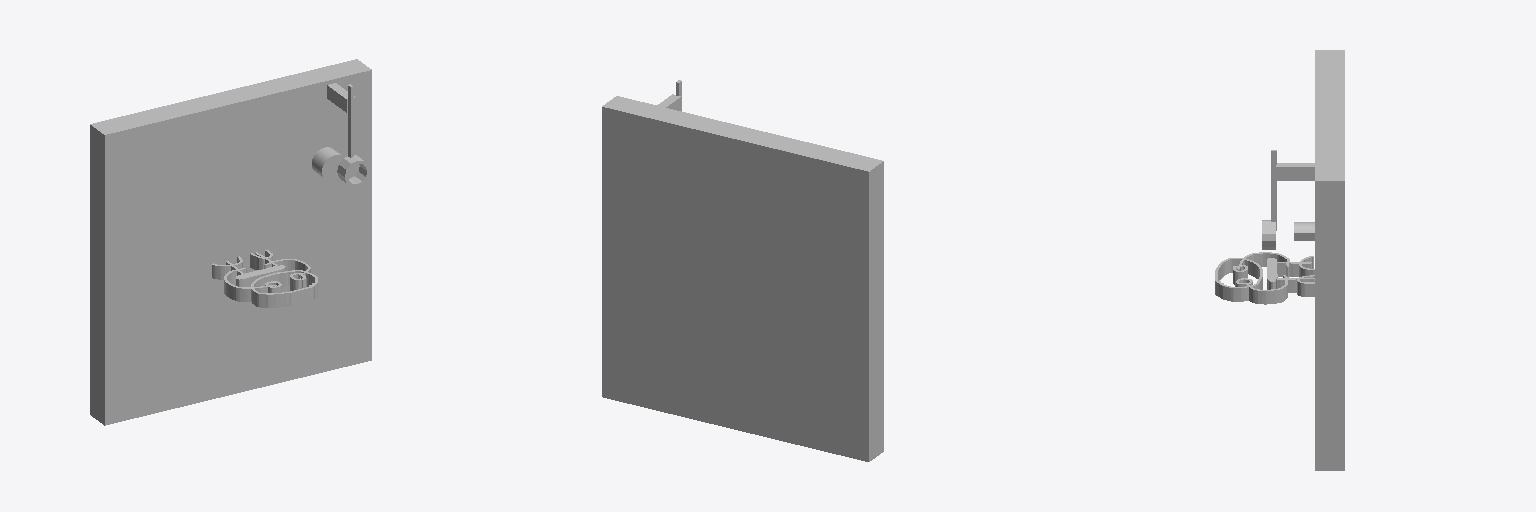
Rendered from raic5_colored3_fail.obj.
3 views of the same model, side by side, from view 1: azimuth 30°, elevation 25°; view 2: azimuth 150°, elevation 25°; view 3: azimuth 270°, elevation 25° (orthographic).
Visible parts, largest first — view 1: obj_0; view 2: obj_0; view 3: obj_0.
Part boxes in pixels (bbox=[...]): obj_0: bbox=[90, 59, 371, 425]; obj_0: bbox=[602, 80, 883, 461]; obj_0: bbox=[1215, 50, 1344, 470].
Bounding box in the file's own units: 207 × 222 × 87.24.